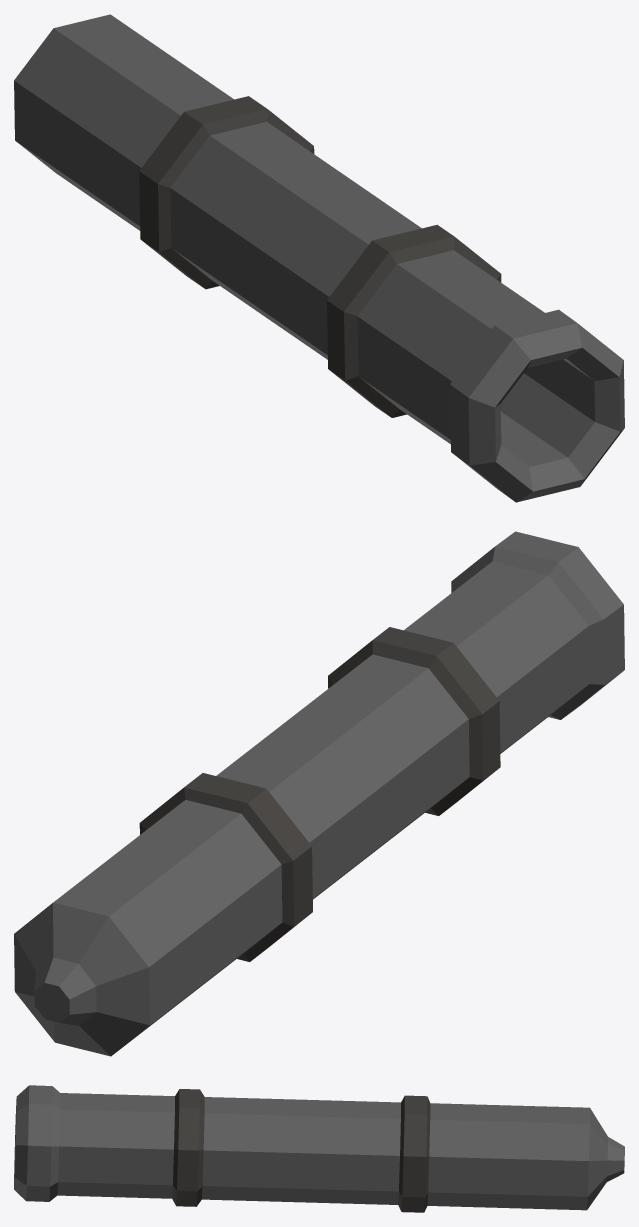
File: gun.fbx
3 views of the same model, one above another, from view 1: azimuth 30°, elevation 25°; view 2: azimuth 150°, elevation 25°; view 3: azimuth 270°, elevation 25° (orthographic). The views are drawn at different scales.
Parts seen in each view (by area): view 1: gun; view 2: gun; view 3: gun.
Part boxes in pixels (bbox=[...]): gun: bbox=[14, 14, 624, 502]; gun: bbox=[14, 531, 624, 1056]; gun: bbox=[14, 1085, 624, 1212].
Size of the model in its own units: 46.48 by 50.38 by 259.
